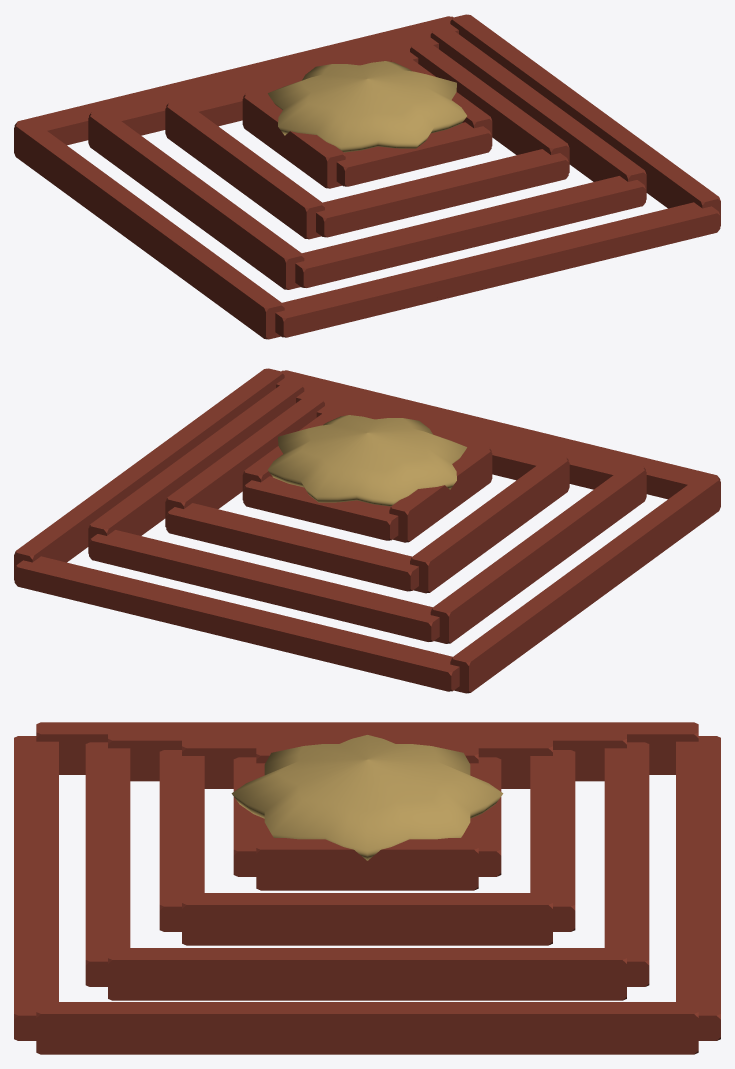
Rendered from ceiling_coffer.glb.
3 renders of one model, top to bottom at view 1: azimuth 30°, elevation 25°; view 2: azimuth 150°, elevation 25°; view 3: azimuth 270°, elevation 25°, orthographic. The views are drawn at different scales.
Visible parts, largest first — view 1: ceiling_coffer; view 2: ceiling_coffer; view 3: ceiling_coffer.
Part boxes in pixels (x1=…): ceiling_coffer: x1=14, y1=14, x2=720, y2=339; ceiling_coffer: x1=14, y1=368, x2=720, y2=693; ceiling_coffer: x1=14, y1=722, x2=720, y2=1054.
Size of the model in its own units: 1.84 by 0.44 by 1.89.
